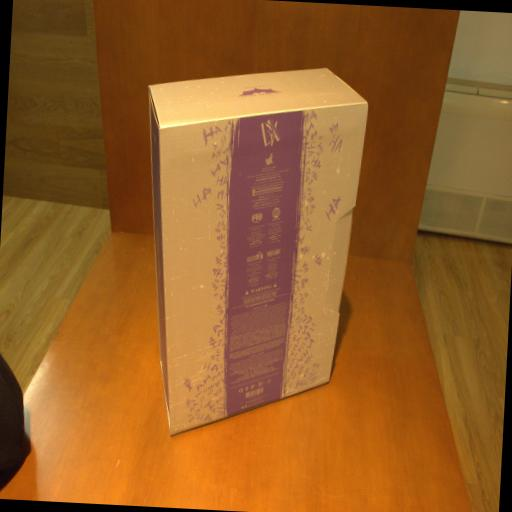Joker: (132, 58, 371, 441)
